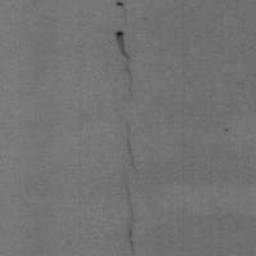Inclusion: (113, 28, 134, 95), (123, 183, 138, 255), (123, 123, 138, 172), (115, 0, 125, 9)
